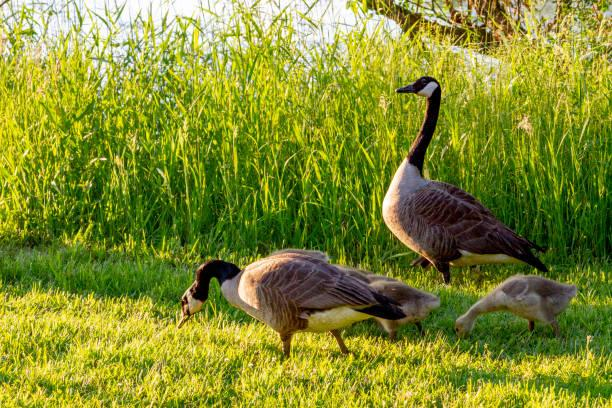Canadian-Goose: (383, 73, 546, 272), (177, 242, 399, 358), (448, 270, 580, 340), (350, 266, 440, 350)
